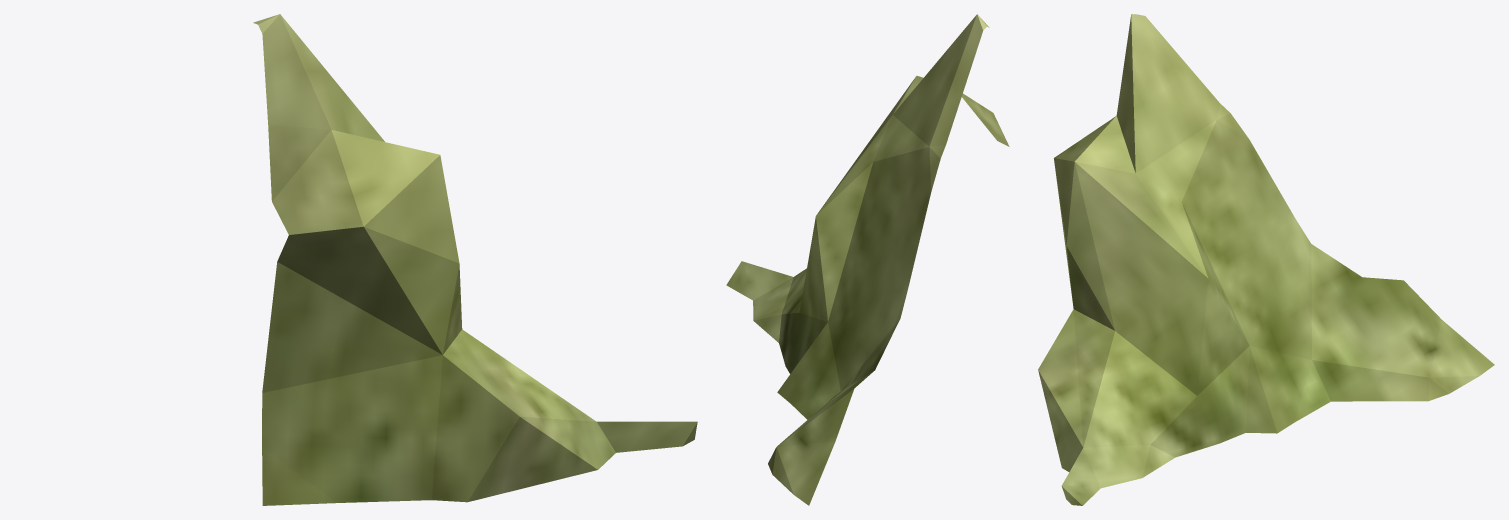
The picture shows the model from 3 angles, left to right: view 1: azimuth 30°, elevation 25°; view 2: azimuth 150°, elevation 25°; view 3: azimuth 270°, elevation 25°; orthographic projection. The views are drawn at different scales.
Size of the model in its own units: 0.7694 by 0.9083 by 1.05.
Materials: 1 (1 with a texture image).
